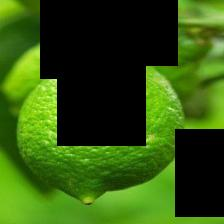green: (3, 26, 184, 205), (1, 82, 224, 224), (1, 0, 80, 81), (19, 0, 103, 23)
